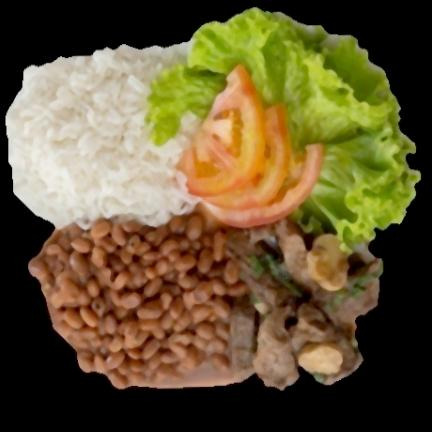beans: (32, 208, 234, 388)
meat: (226, 210, 380, 390)
rice: (7, 45, 201, 227)
salad: (144, 7, 419, 248)
tomato: (165, 62, 323, 226)
